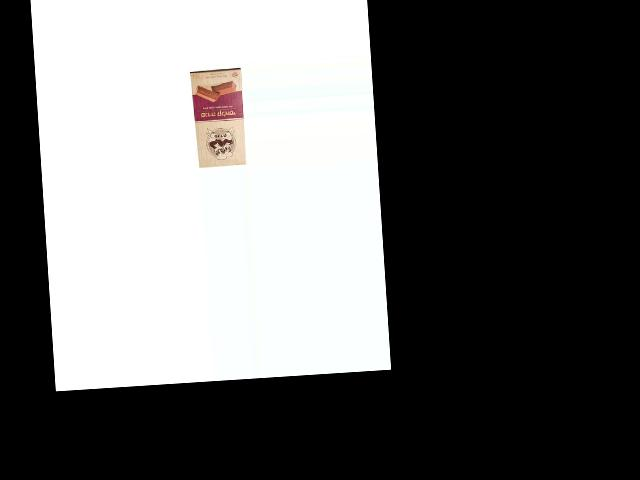chocolate: (188, 67, 245, 168)
